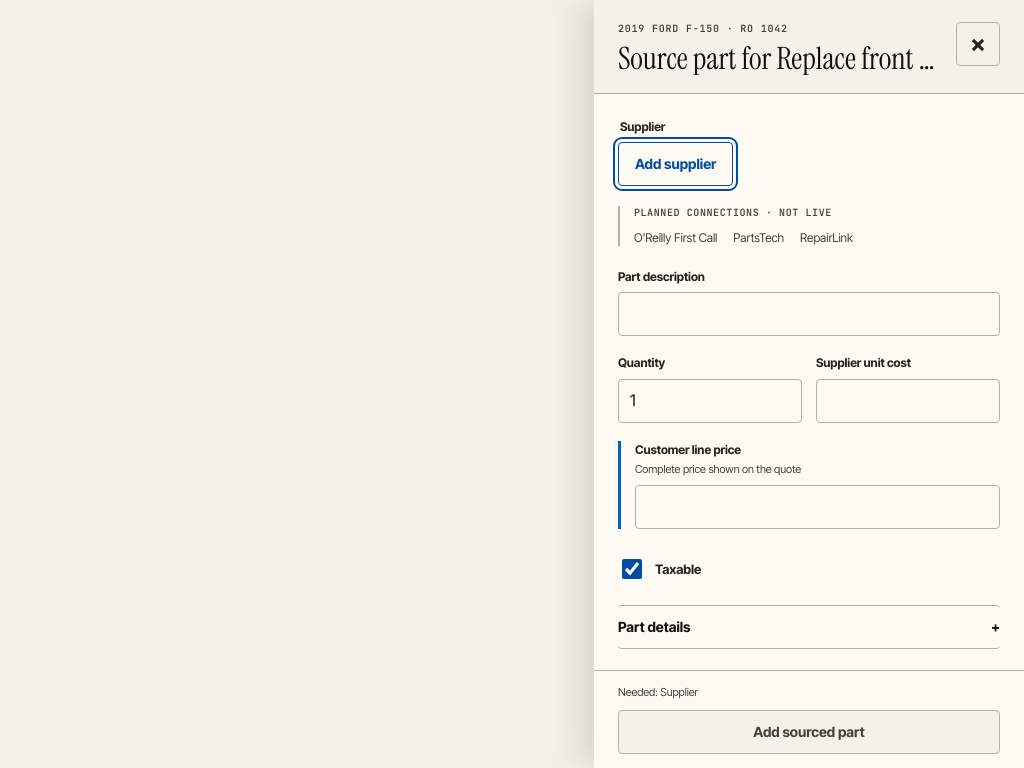
ManualPartSourcing › creates a supplier separately, selects it, and never auto-submits the offer
In the field labelled "Part description": x=809, y=314 top-left (618, 292), bottom-right (1000, 336), type "Brake pads"
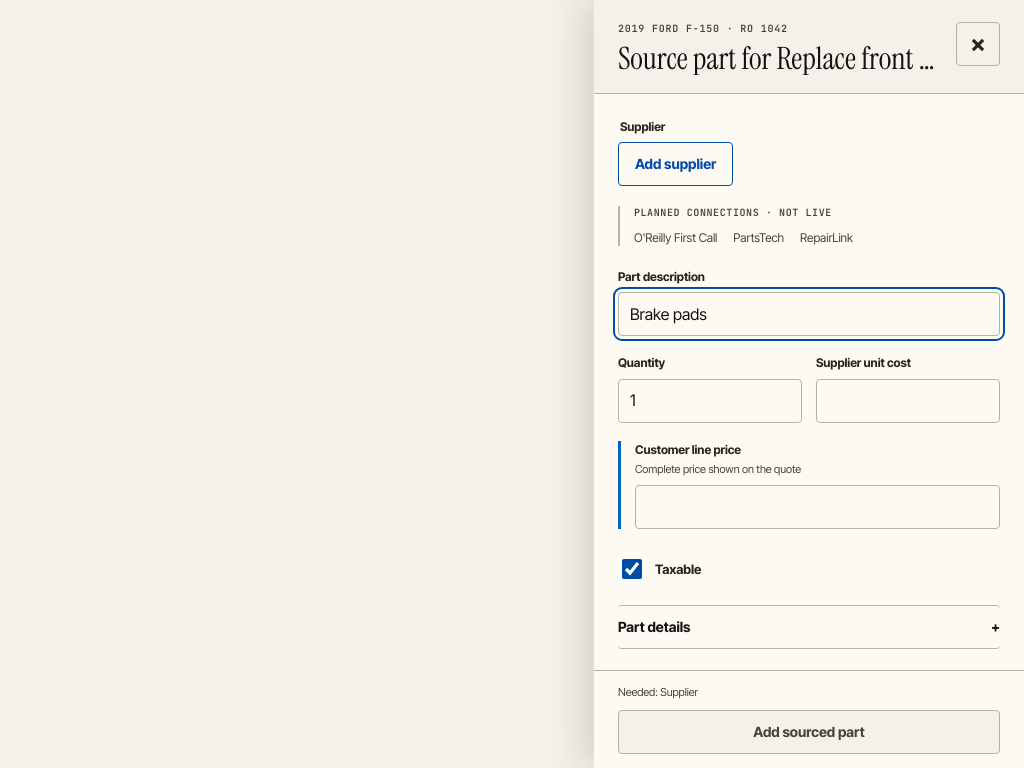
In the field labelled "Supplier unit cost": x=908, y=401 top-left (816, 379), bottom-right (1000, 423), type "80"
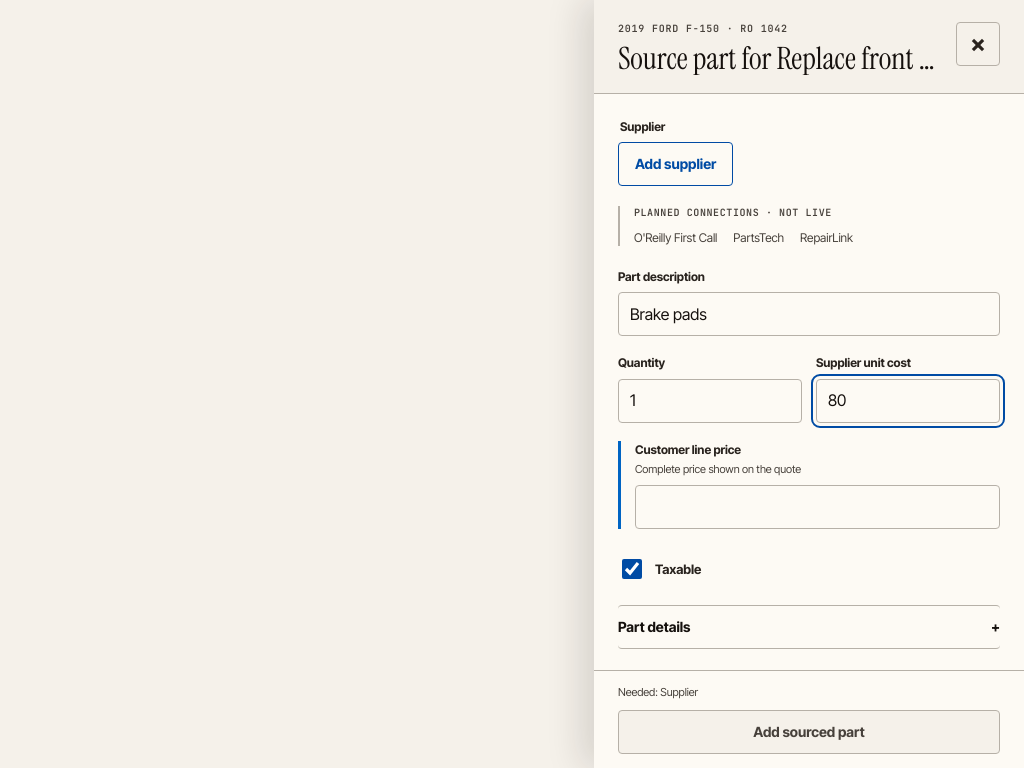
In the field labelled "Customer line price": x=817, y=507 top-left (635, 485), bottom-right (1000, 529), type "120"
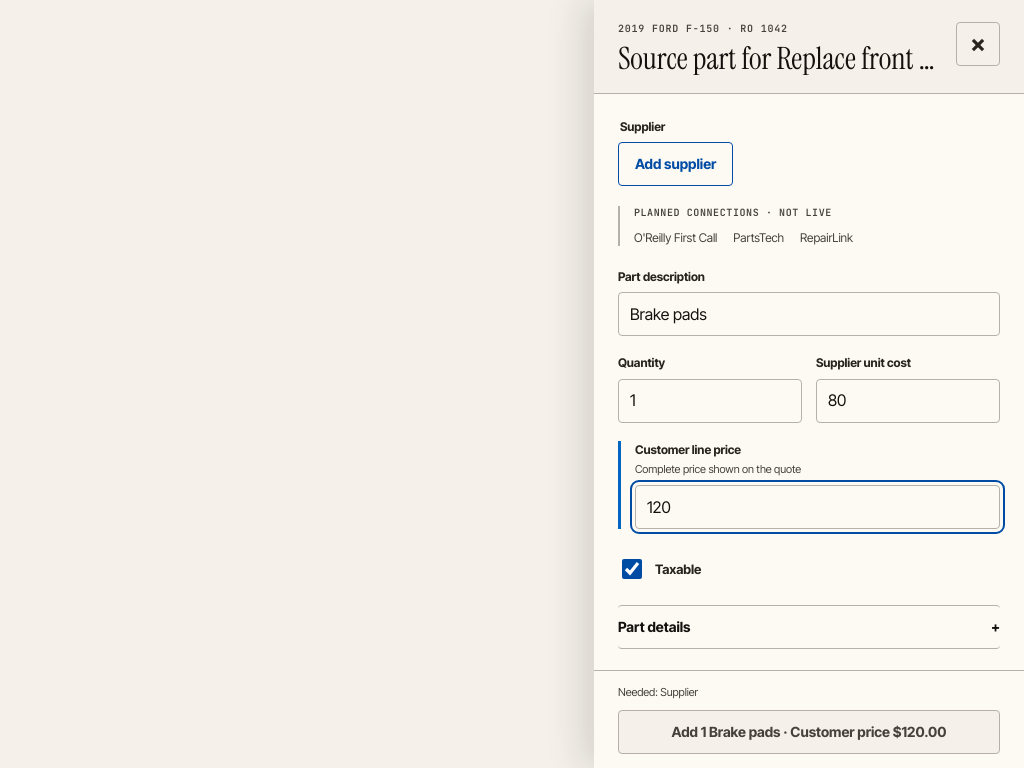
Click the button "Add supplier": x=676, y=164 top-left (618, 142), bottom-right (733, 186)
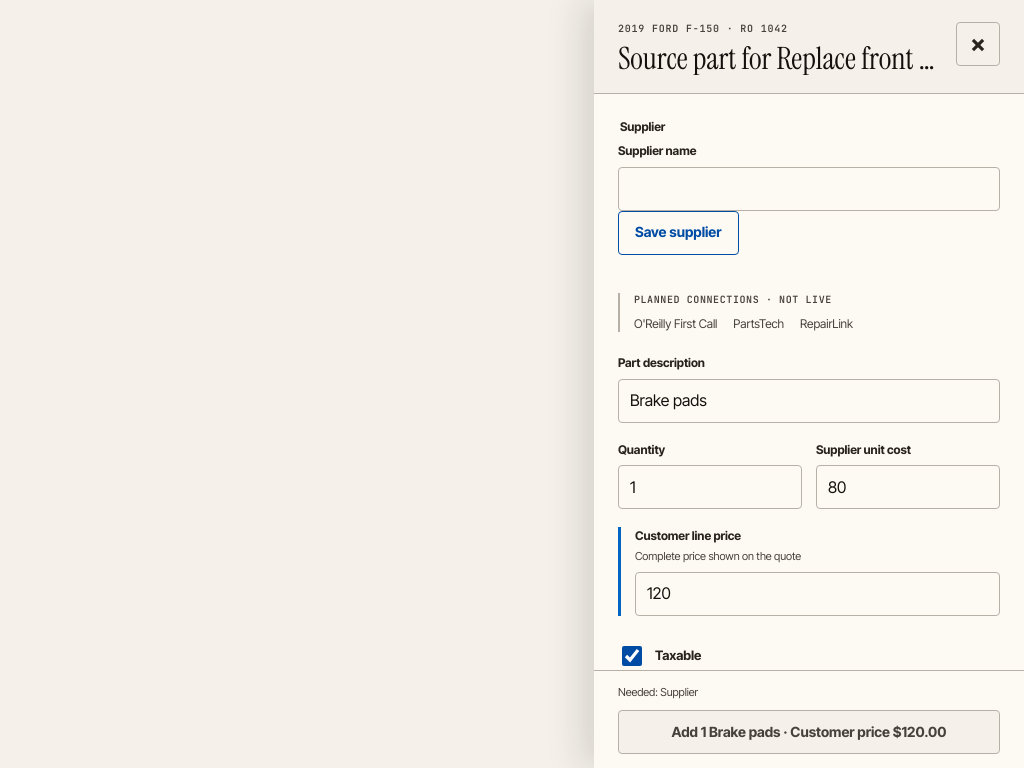
In the field labelled "Supplier name": x=809, y=188 top-left (618, 166), bottom-right (1000, 210), type "  Metro Supply  "
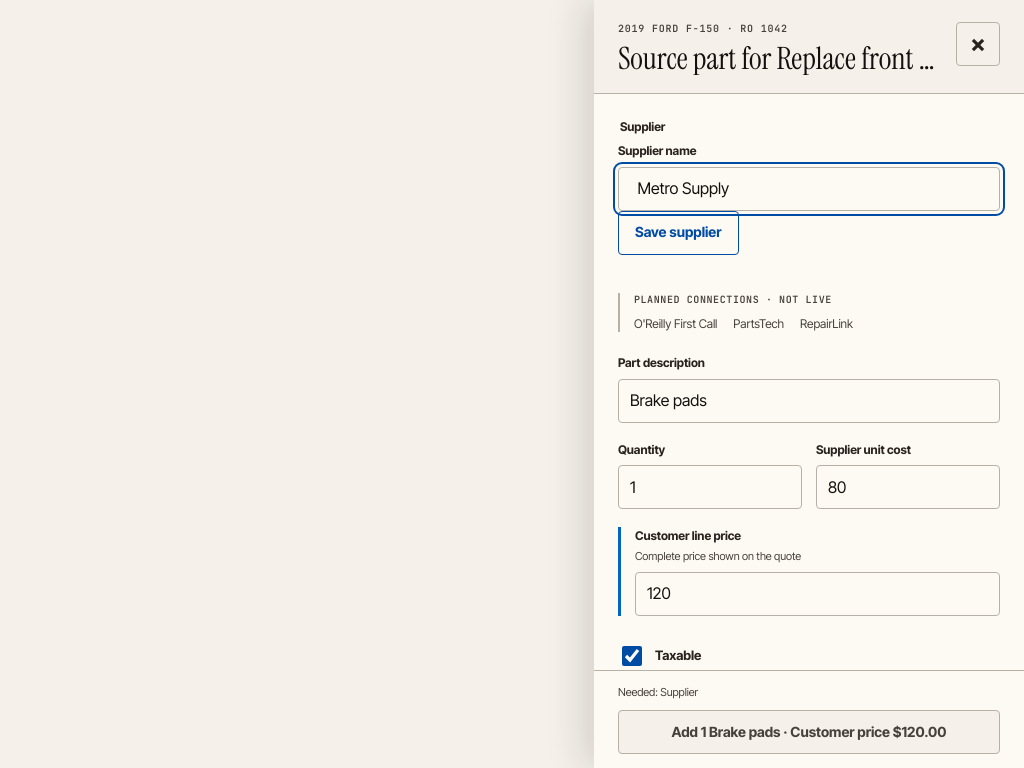
Click the button "Save supplier": x=678, y=232 top-left (618, 210), bottom-right (738, 254)
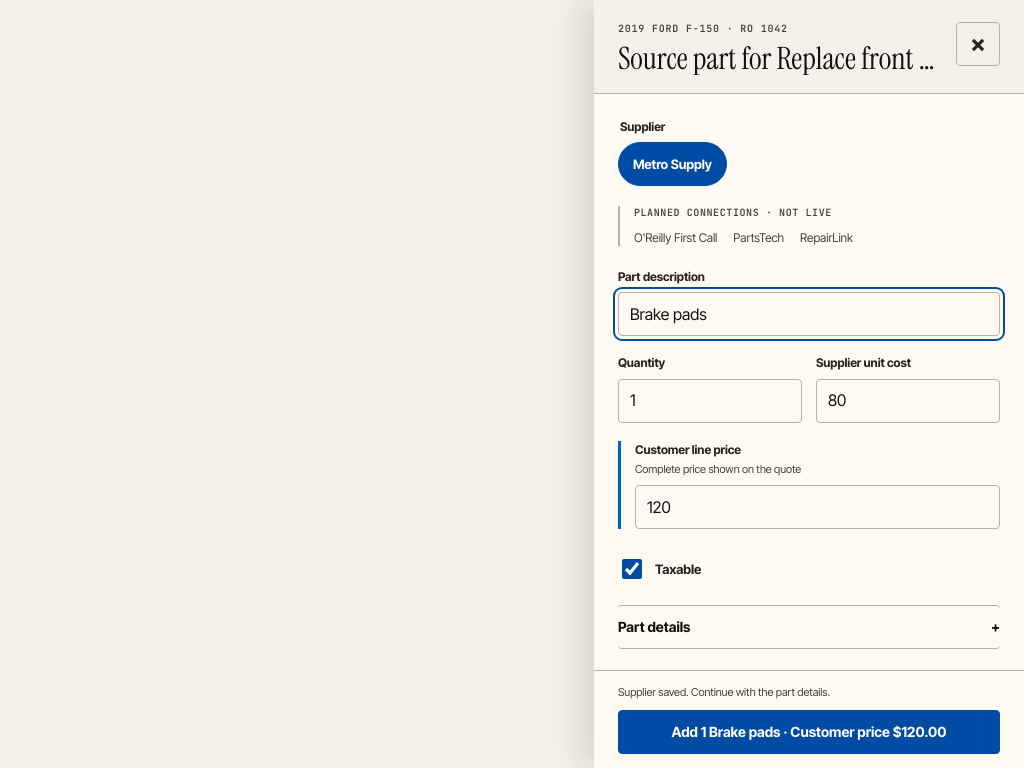
Expected: the radio button labelled "Metro Supply" is checked, top-left (618, 142), bottom-right (727, 186)
Expected: the message reads "Supplier saved. Continue with the part details.", top-left (618, 685), bottom-right (830, 699)
